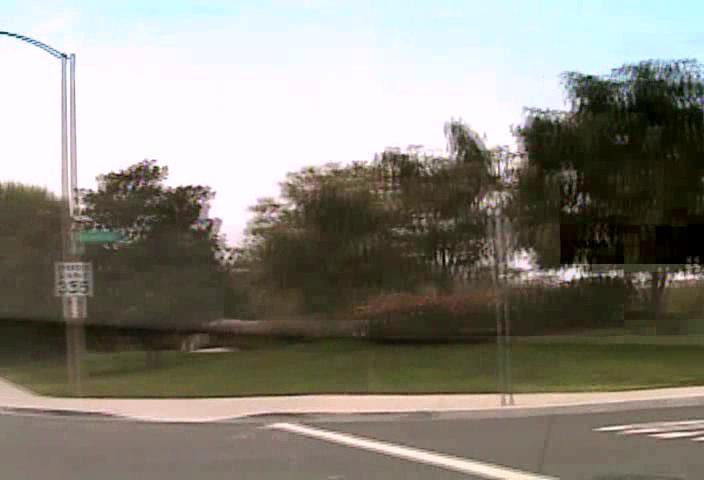speedLimit35: (56, 261, 89, 297)
